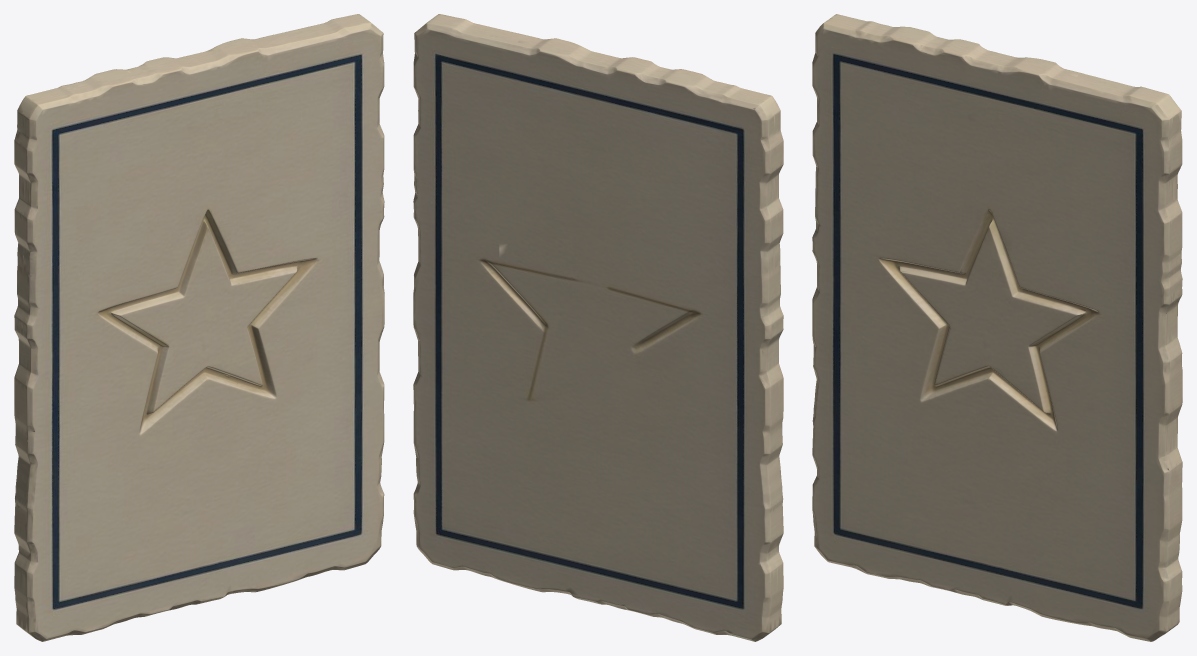
The model's file is star_tag.glb.
3 renders of one model, left to right at view 1: azimuth 30°, elevation 25°; view 2: azimuth 150°, elevation 25°; view 3: azimuth 330°, elevation 25°, orthographic.
Visible parts, largest first — view 1: node_0; view 2: node_0; view 3: node_0.
Boxes of the visible parts, bbox=[...] form: node_0: bbox=[14, 14, 384, 641]; node_0: bbox=[413, 14, 783, 641]; node_0: bbox=[812, 14, 1182, 641].
Size of the model in its own units: 0.6999 by 1.02 by 0.0591.
Materials: 1 (1 with a texture image).
